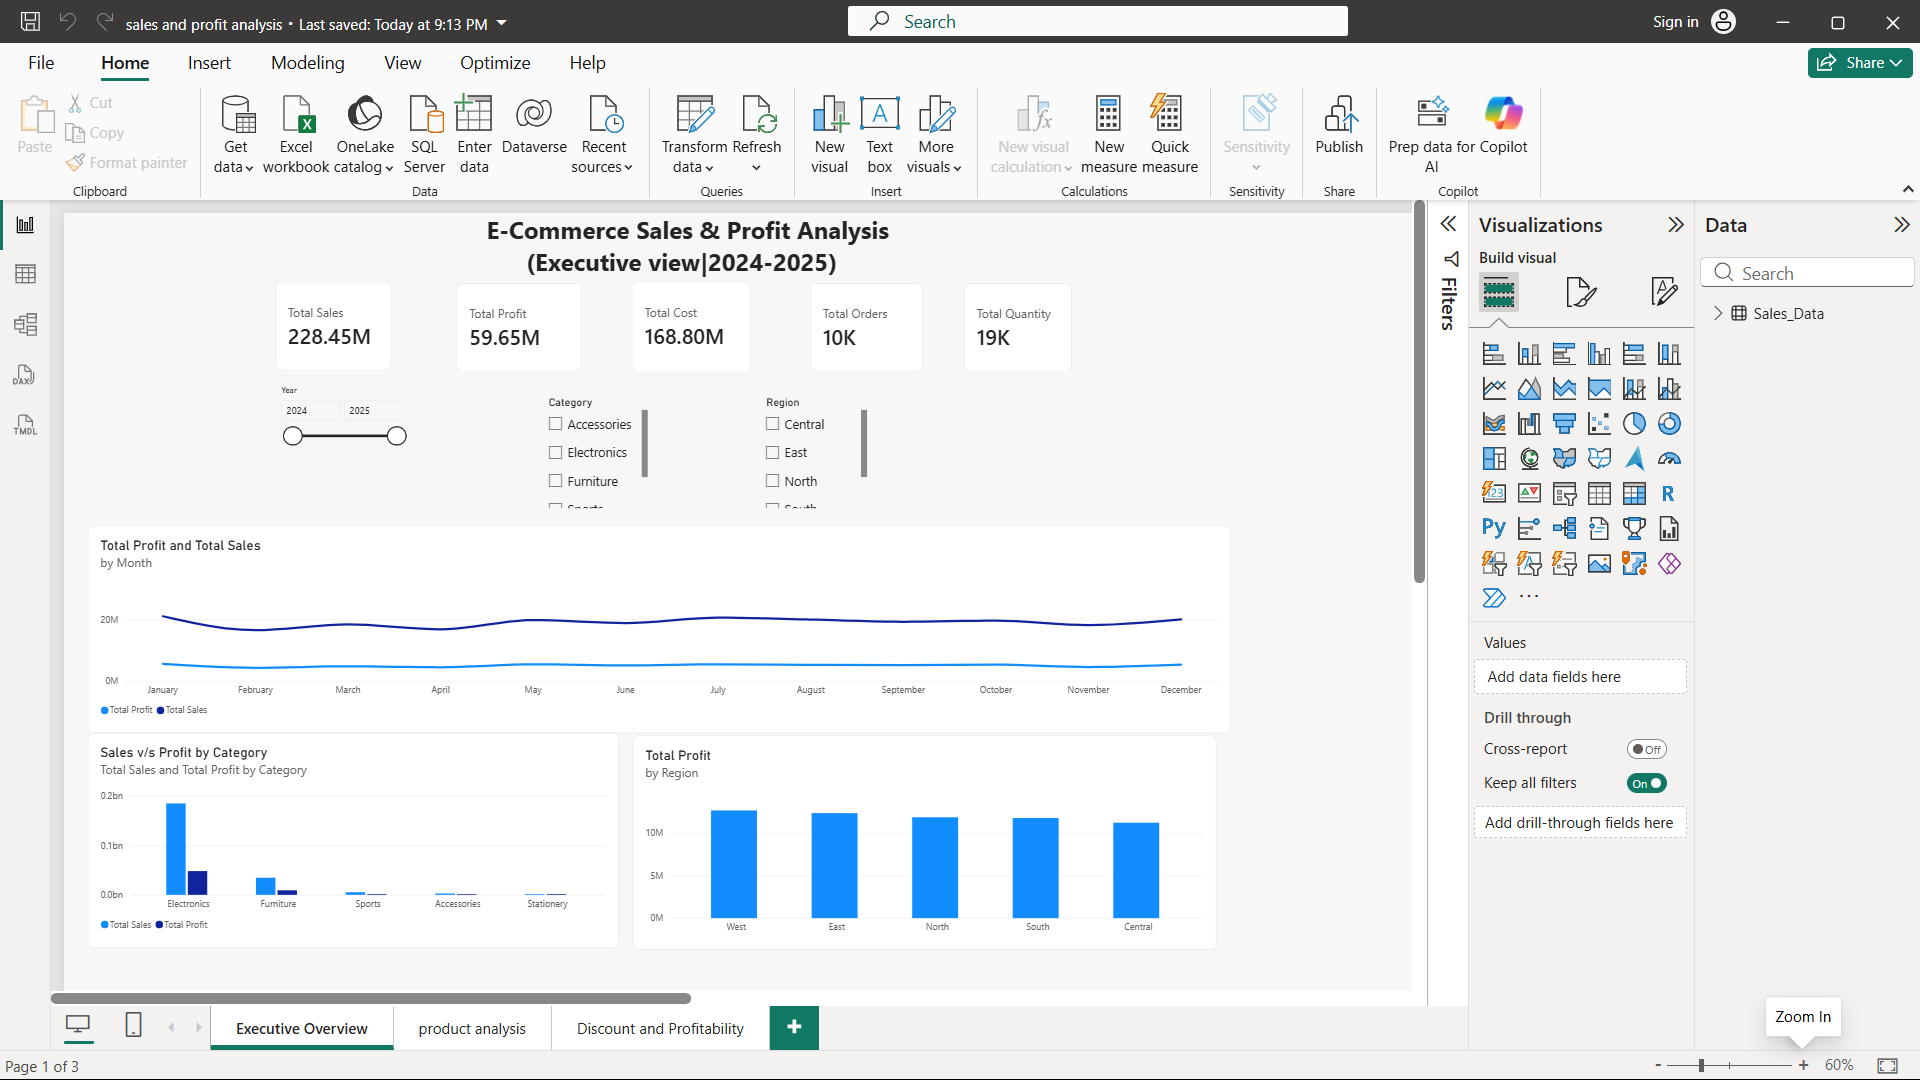

This screenshot's page, from the dashboard's own definition file:
{"tool":"powerbi","page":{"name":"Executive Overview","canvas":[3840,2160],"ordinal":0},"visuals":[{"type":"cardVisual","fields":{"Data":["Sales_Data.Total Cost"]},"box":[758.3,93.3,155.7,118.6],"z":0},{"type":"cardVisual","fields":{"Data":["Sales_Data.Total Orders"]},"box":[995.7,92.9,150,118.6],"z":1000},{"type":"cardVisual","fields":{"Data":["Sales_Data.Total Quantity"]},"box":[1200,92.9,144.3,118.6],"z":2000},{"type":"cardVisual","fields":{"Data":["Sales_Data.Total Sales"]},"box":[281.7,91.7,155.7,118.6],"z":3000},{"type":"cardVisual","fields":{"Data":["Sales_Data.Total Profit"]},"box":[522.9,92.9,167.1,118.6],"z":4000},{"type":"lineChart","fields":{"Category":["Sales_Data.Order_Date.Variation.Date Hierarchy.Month"],"Y":["Sales_Data.Total Profit","Sales_Data.Total Sales"]},"box":[32,416,1524.3,277.1],"z":5000},{"type":"clusteredColumnChart","title":"Sales v/s Profit by Category","fields":{"Category":["Sales_Data.Category"],"Y":["Sales_Data.Total Sales","Sales_Data.Total Profit"]},"box":[32,694,708,286],"z":6000},{"type":"clusteredColumnChart","fields":{"Category":["Sales_Data.Region"],"Y":["Sales_Data.Total Profit"]},"box":[758,696,778.6,285.7],"z":7000},{"type":"slicer","fields":{"Values":["Sales_Data.Year"]},"box":[282,230,178,88],"z":11000},{"type":"slicer","fields":{"Values":["Sales_Data.Region"]},"box":[928,244,142,150],"z":12000},{"type":"slicer","fields":{"Values":["Sales_Data.Category"]},"box":[638,244,140,150],"z":13000},{"type":"textbox","box":[32,61,250,150],"z":13001},{"type":"textbox","box":[32,230,250,150],"z":13002},{"type":"textbox","box":[1456.7,28.3,326.7,200],"z":13003},{"type":"textbox","box":[1794,28,327,200],"z":13004},{"type":"textbox","box":[2275,211.7,183.3,16.7],"z":13005},{"type":"textbox","box":[475,0,815,93.3],"z":13006}]}

Visuals, with their boxes on the page's 3840x2160 design canvas (x1, y1, x2, y2). These are canvas units, not pixel positions in the 1920x1080 screenshot, which may show the page scaled, cropped or inside an application window:
cardVisual - Sales_Data.Total Cost: (left=758, top=93, right=914, bottom=212)
cardVisual - Sales_Data.Total Orders: (left=996, top=93, right=1146, bottom=212)
cardVisual - Sales_Data.Total Quantity: (left=1200, top=93, right=1344, bottom=212)
cardVisual - Sales_Data.Total Sales: (left=282, top=92, right=437, bottom=210)
cardVisual - Sales_Data.Total Profit: (left=523, top=93, right=690, bottom=212)
lineChart - Sales_Data.Order_Date.Variation.Date Hierarchy.Month x Sales_Data.Total Profit: (left=32, top=416, right=1556, bottom=693)
"Sales v/s Profit by Category" clusteredColumnChart: (left=32, top=694, right=740, bottom=980)
clusteredColumnChart - Sales_Data.Region x Sales_Data.Total Profit: (left=758, top=696, right=1537, bottom=982)
slicer - Sales_Data.Year: (left=282, top=230, right=460, bottom=318)
slicer - Sales_Data.Region: (left=928, top=244, right=1070, bottom=394)
slicer - Sales_Data.Category: (left=638, top=244, right=778, bottom=394)
textbox: (left=32, top=61, right=282, bottom=211)
textbox: (left=32, top=230, right=282, bottom=380)
textbox: (left=1457, top=28, right=1783, bottom=228)
textbox: (left=1794, top=28, right=2121, bottom=228)
textbox: (left=2275, top=212, right=2458, bottom=228)
textbox: (left=475, top=0, right=1290, bottom=93)
